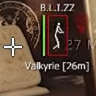hacks_3: (25, 3, 89, 72)
